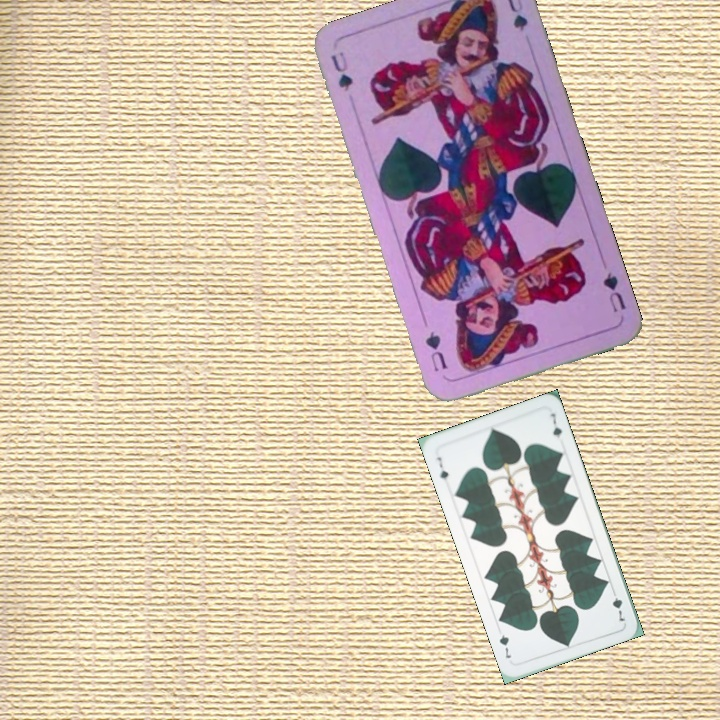G7: (608, 585, 628, 625), (433, 453, 451, 483)
GU: (599, 268, 629, 315), (327, 47, 356, 94)
